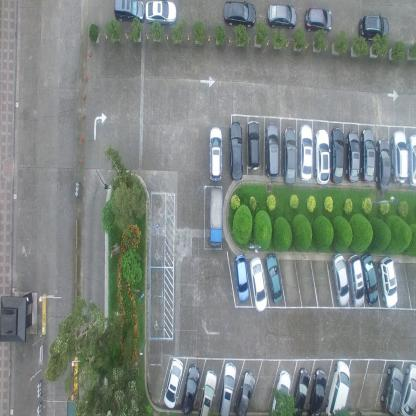car: (325, 359, 350, 415), (380, 364, 405, 416), (330, 252, 350, 308), (249, 254, 268, 312), (164, 356, 184, 410), (217, 362, 237, 415), (379, 255, 398, 308), (346, 254, 364, 309), (360, 251, 378, 306), (398, 361, 416, 416), (306, 368, 327, 415), (223, 0, 257, 29), (209, 186, 224, 250), (266, 252, 284, 304), (234, 370, 254, 416), (271, 370, 291, 416), (391, 130, 408, 184), (181, 364, 199, 415), (291, 367, 310, 415), (282, 126, 297, 186), (358, 13, 389, 42), (314, 129, 330, 185), (298, 123, 313, 182), (266, 2, 298, 29), (264, 123, 279, 179), (229, 121, 243, 181), (376, 139, 392, 191), (145, 0, 178, 25), (330, 126, 344, 184), (305, 6, 332, 36), (199, 370, 217, 415), (360, 127, 374, 183), (233, 254, 249, 303), (346, 131, 360, 184), (113, 0, 145, 23), (209, 127, 222, 182), (247, 121, 260, 171), (406, 133, 416, 186)
